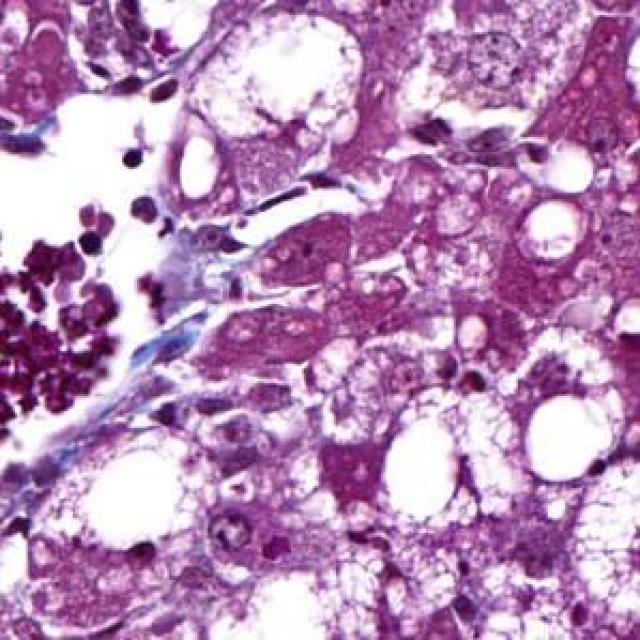ballooning: (180, 13, 377, 156), (372, 379, 531, 535)
